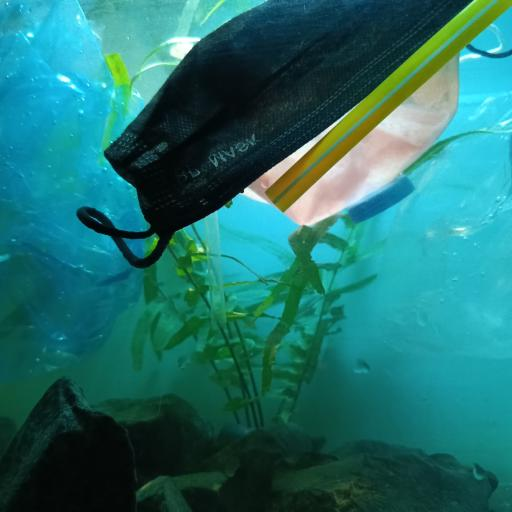bottle_cap: (348, 177, 414, 224)
mask: (80, 0, 470, 272), (240, 21, 502, 226)
plastic_bag: (1, 0, 158, 378), (361, 92, 512, 352)
plastic_straw: (264, 0, 512, 212), (203, 214, 230, 332)
